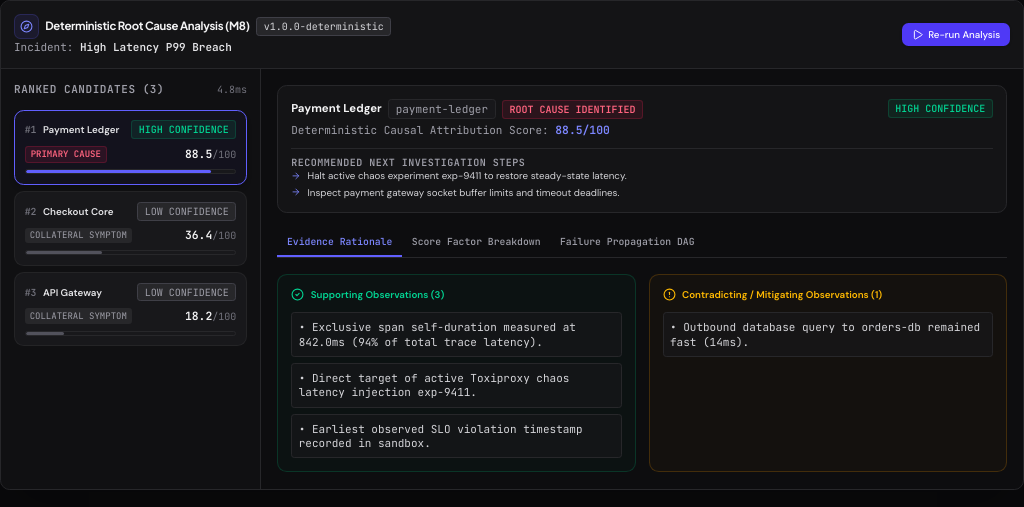
Test: Milestone M8: Deterministic Root Cause Analysis (RCA) Workspace UI › displays failure propagation paths and causal flow
Step 1. Click the button "Failure Propagation DAG" → {"x": 627, "y": 243}, box [550,229,704,257]
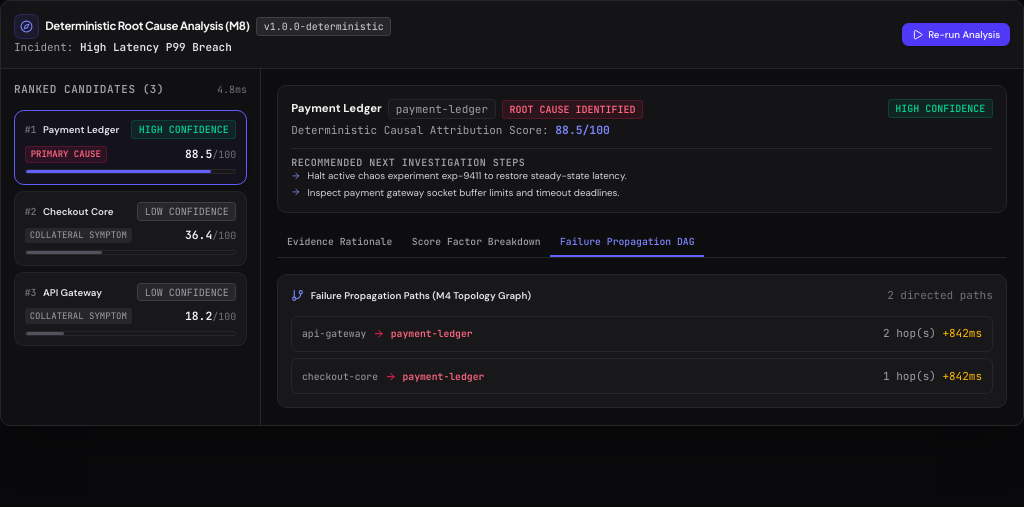
Expected: the text "payment-ledger" next to "ROOT CAUSE IDENTIFIED" is shown, [396,102,488,116]
Expected: the text "Failure Propagation Paths (M4 Topology Graph)" is shown, [311,289,531,302]
Expected: the text "2 hop(s)" is shown, [883,326,936,340]
